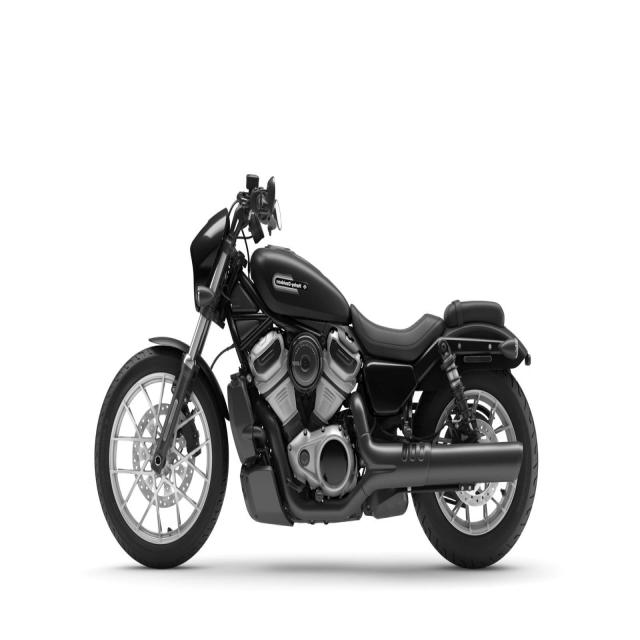Motorcycle: (94, 174, 539, 568)
